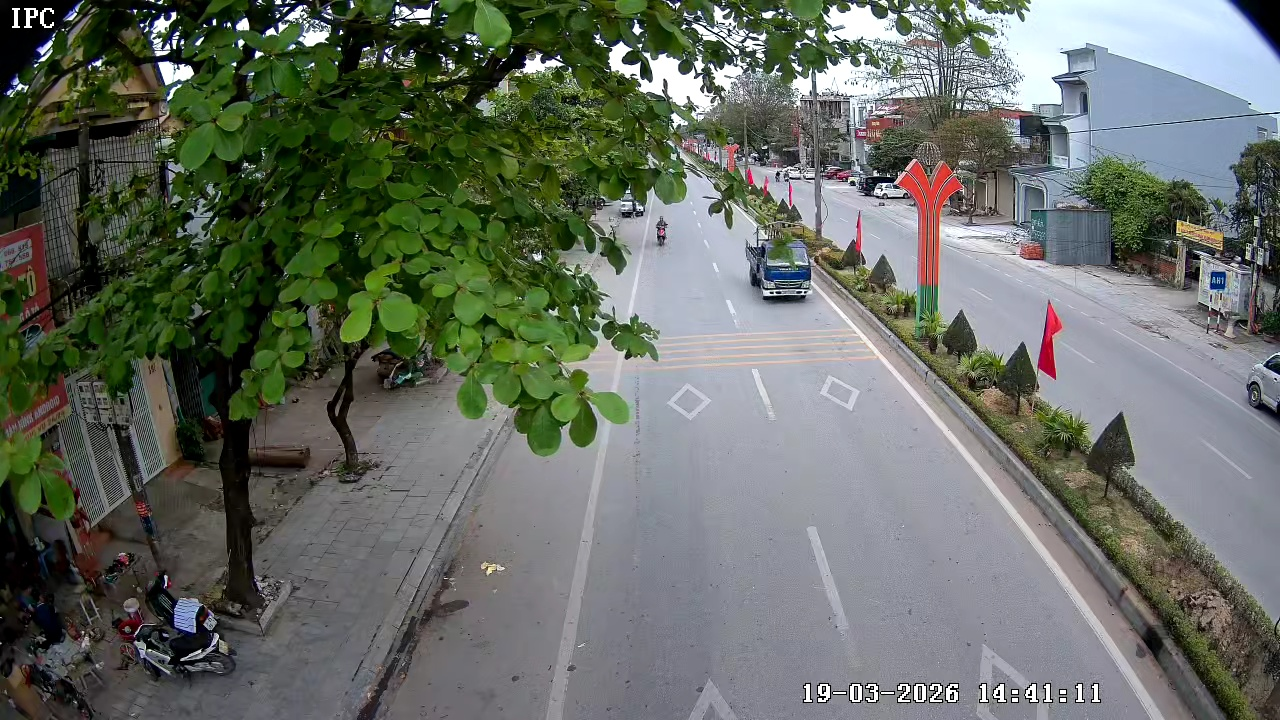car: (1244, 348, 1279, 450)
motorbike: (653, 215, 670, 247)
truck: (747, 228, 813, 302)
